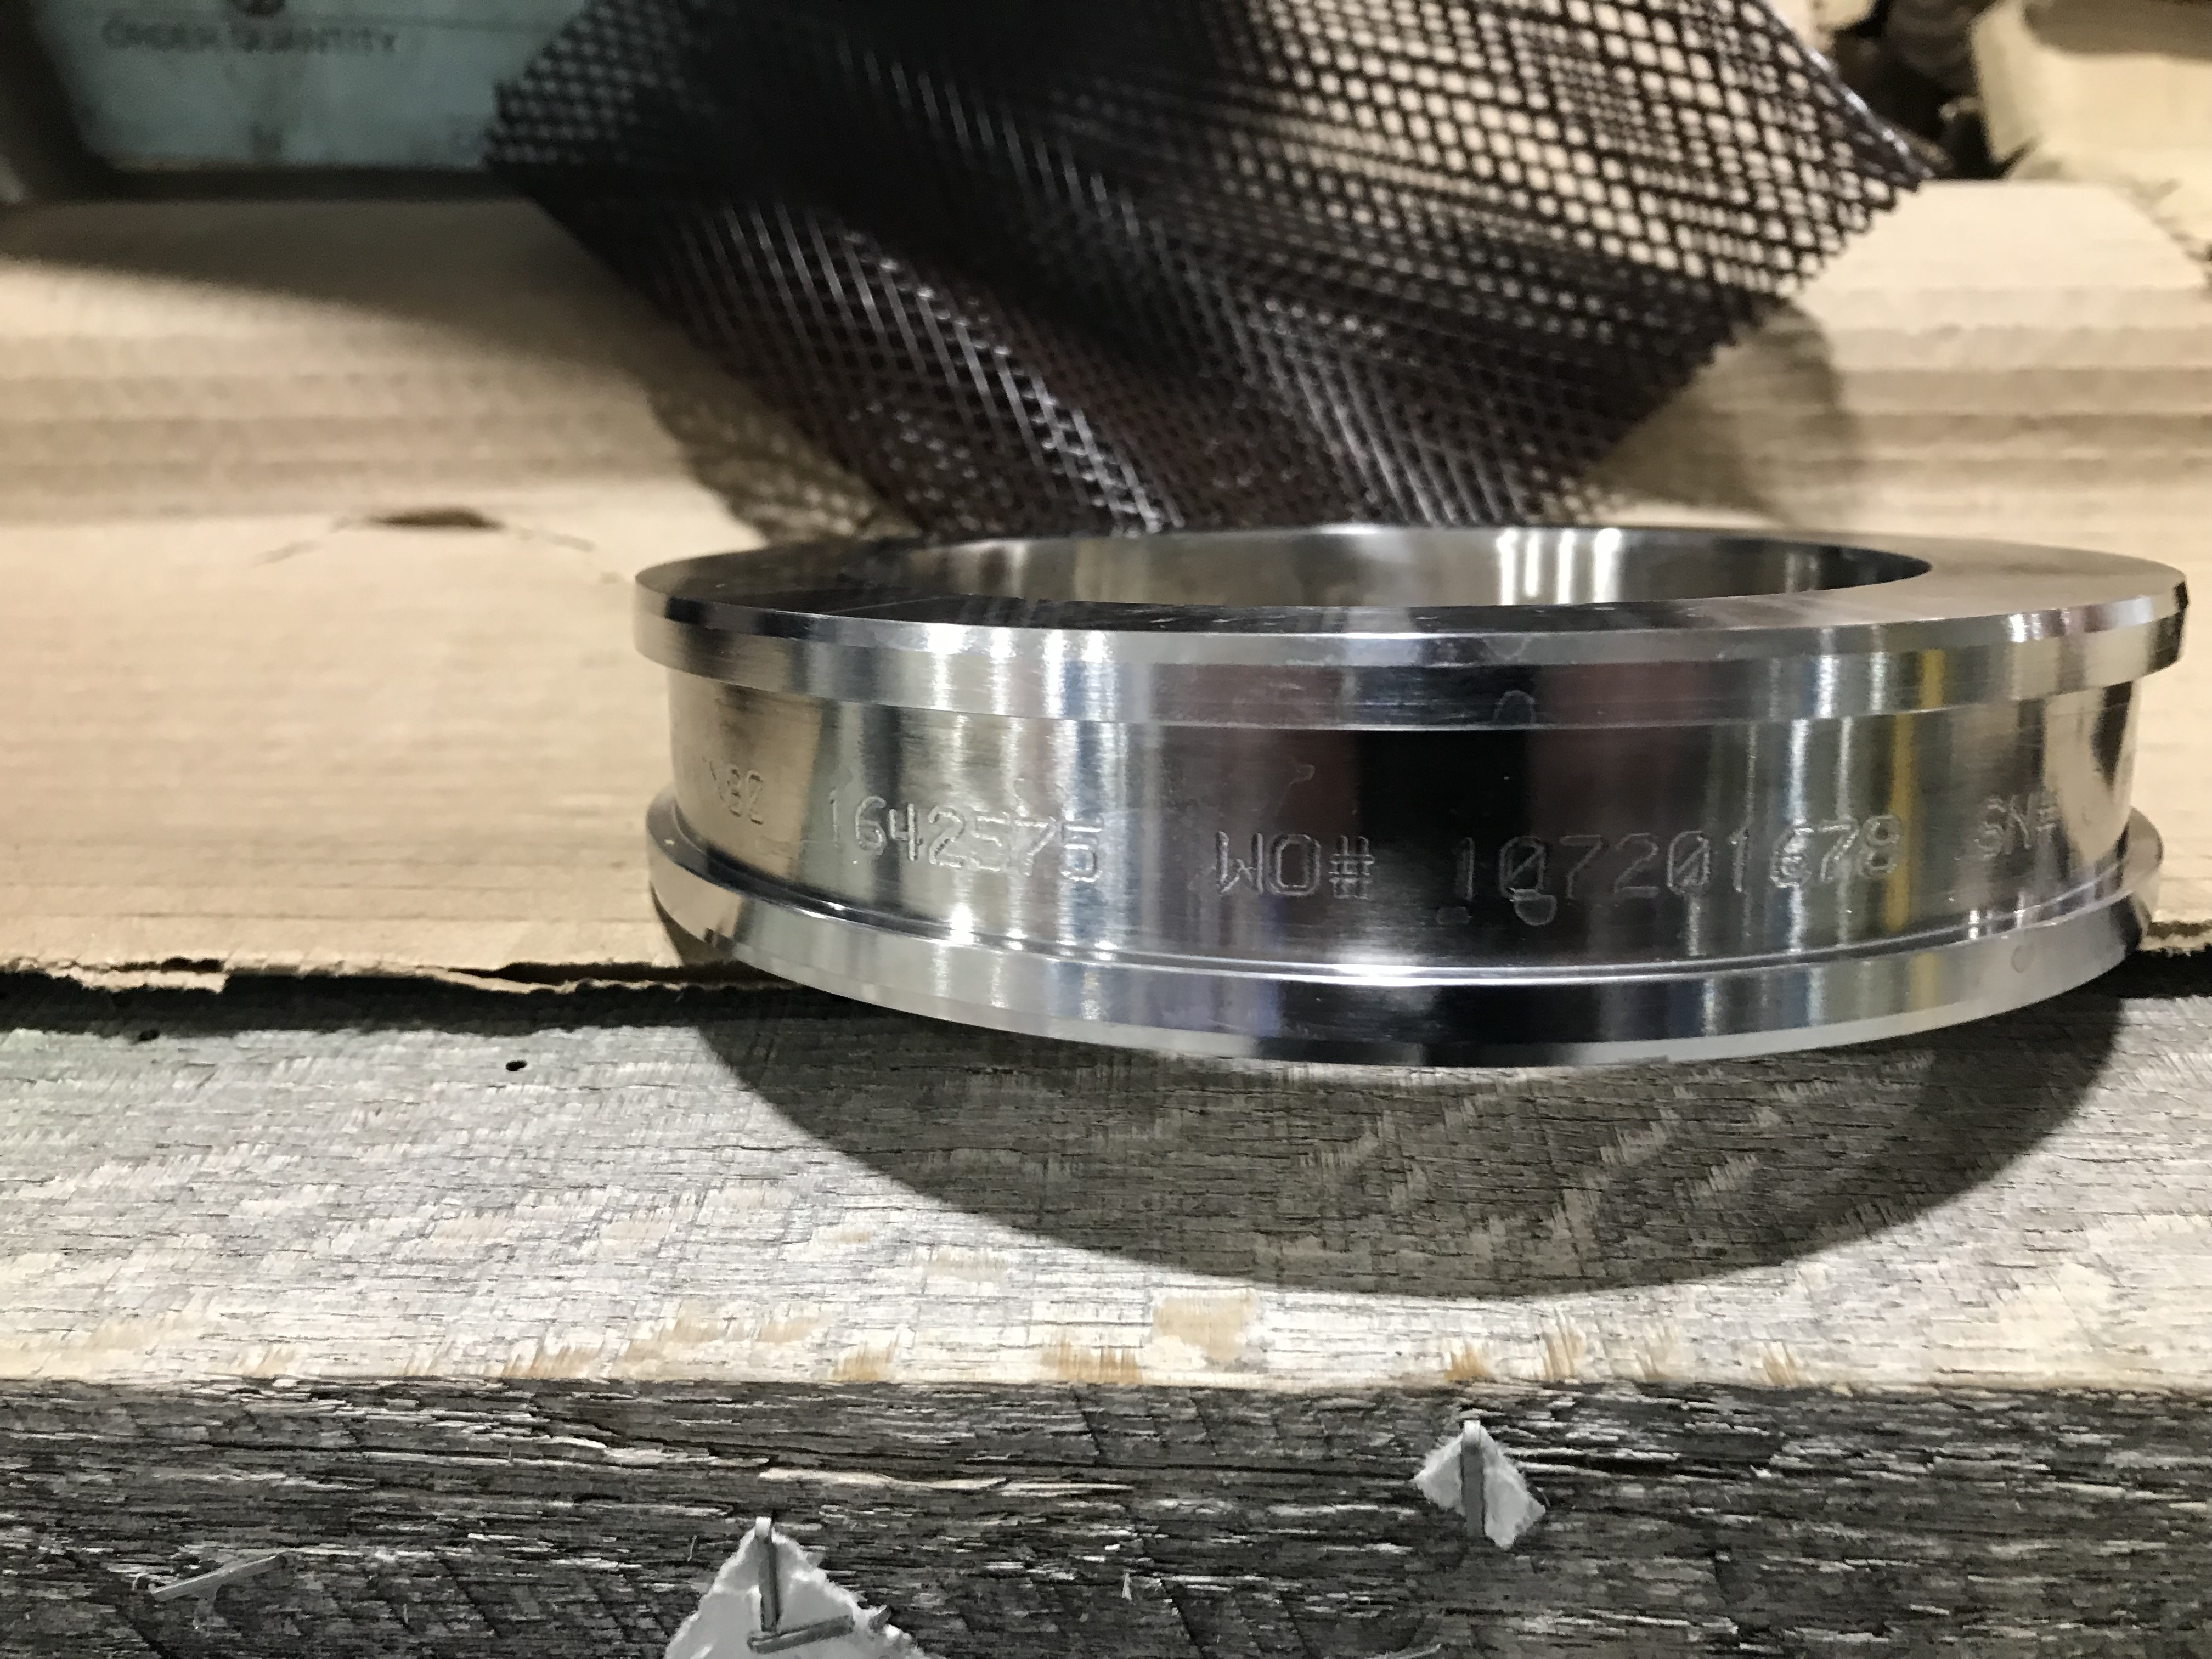character: (1204, 824, 1268, 906), (1263, 826, 1325, 906), (1554, 828, 1609, 911), (1440, 817, 1489, 911), (1494, 831, 1554, 908), (1663, 823, 1717, 904), (1320, 826, 1378, 903), (1611, 826, 1663, 904), (1860, 810, 1905, 894), (1810, 814, 1858, 889), (921, 802, 970, 873), (1768, 819, 1813, 890), (1059, 816, 1104, 884), (1012, 814, 1055, 878), (1728, 824, 1763, 903), (817, 781, 852, 857), (972, 809, 1012, 873), (1972, 789, 2008, 859), (885, 800, 921, 864), (2006, 791, 2040, 857), (853, 791, 887, 854), (2038, 784, 2064, 843)
